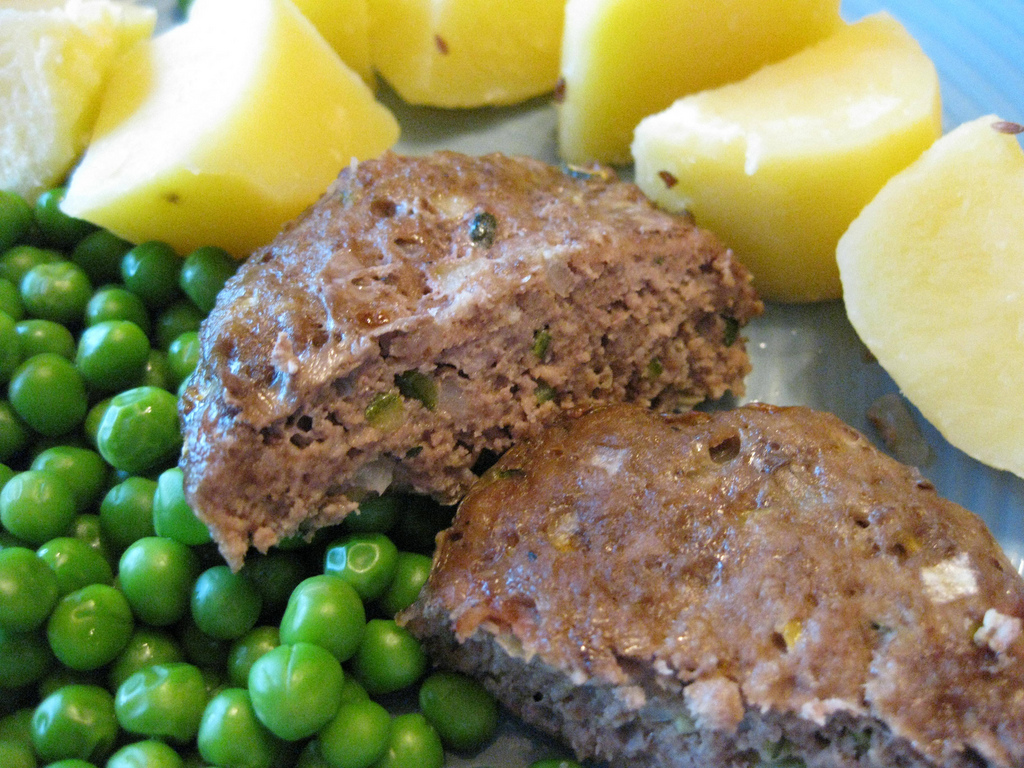boiled peas: (10, 246, 191, 760)
boiled potatoes: (589, 1, 1000, 281), (37, 9, 366, 232)
